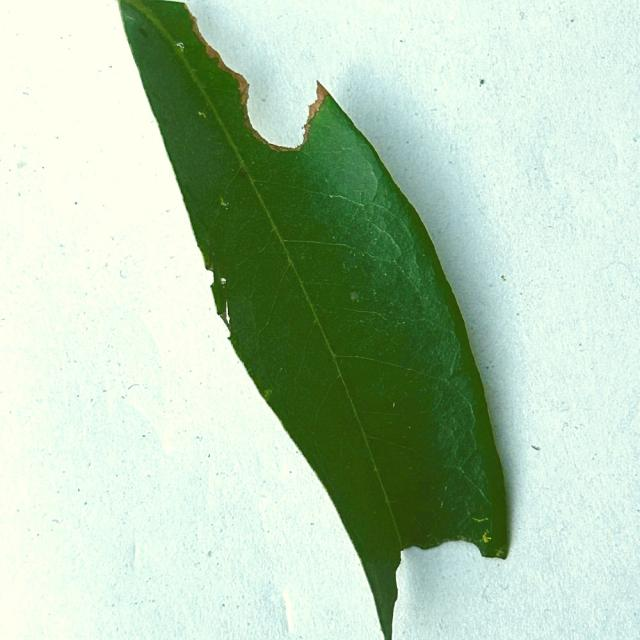Deficiency Leaf: (183, 0, 320, 148), (399, 545, 500, 622)
Lychee: (116, 0, 512, 639)
